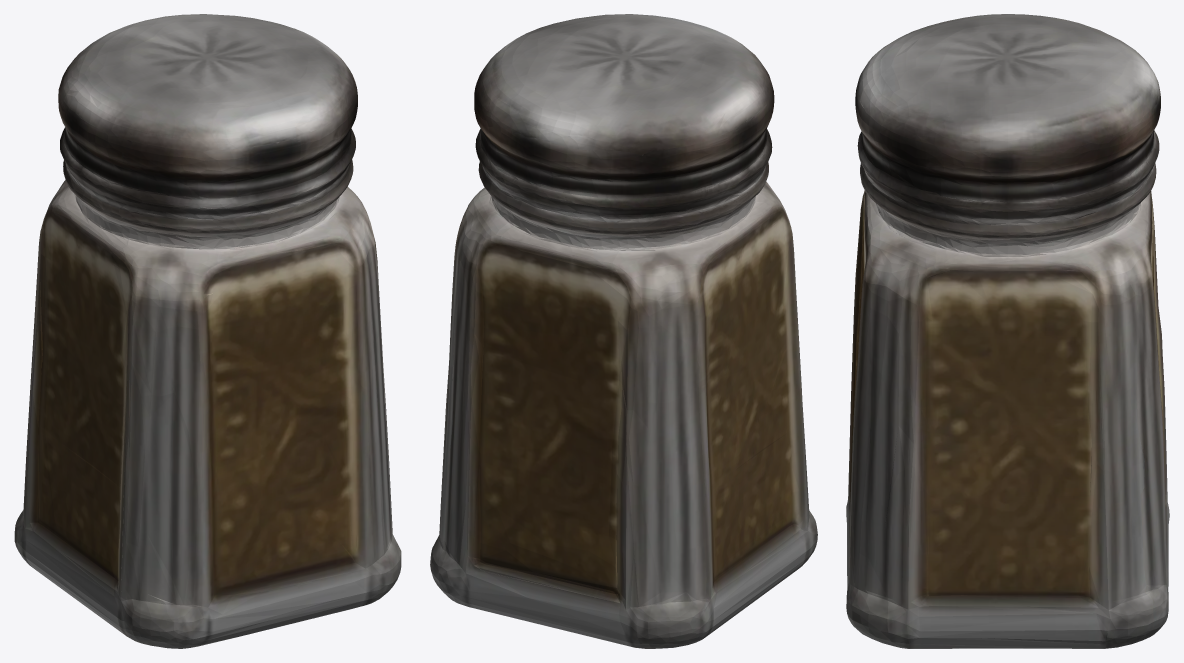
The picture shows the model from 3 angles, left to right: view 1: azimuth 30°, elevation 25°; view 2: azimuth 150°, elevation 25°; view 3: azimuth 270°, elevation 25°; orthographic projection. The views are drawn at different scales.
Parts seen in each view (by area): view 1: geometry_0; view 2: geometry_0; view 3: geometry_0.
Boxes of the visible parts, x1,y1,x2,y2 form: geometry_0: (14,14,401,648); geometry_0: (430,14,817,648); geometry_0: (846,14,1169,648).
Size of the model in its own units: 0.5513 by 0.9992 by 0.552.
Materials: 1 (1 with a texture image).
